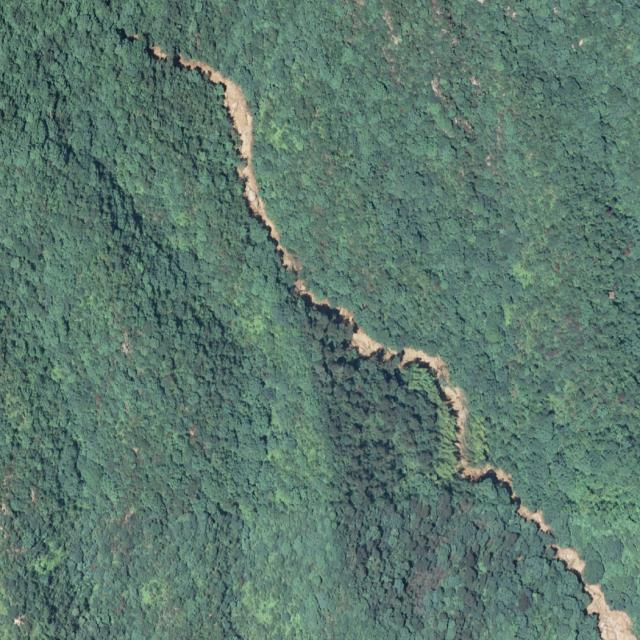landslide: (175, 52, 552, 535), (548, 545, 637, 640)
